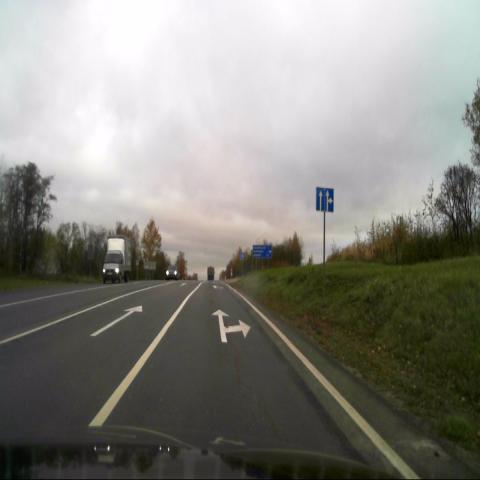5_15_2_2: (316, 186, 334, 213)
